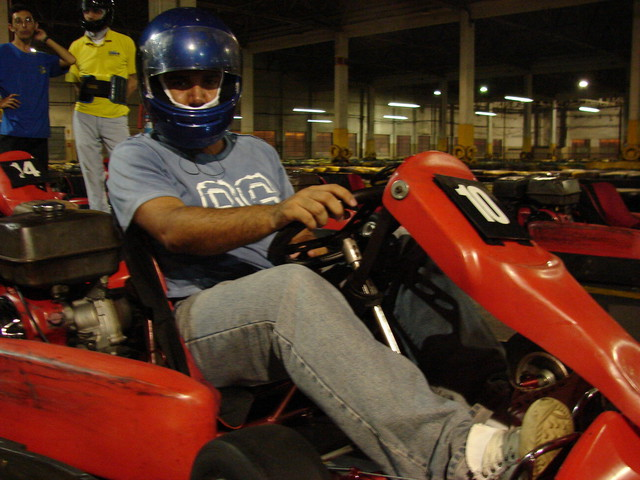helmet: (143, 19, 251, 130)
